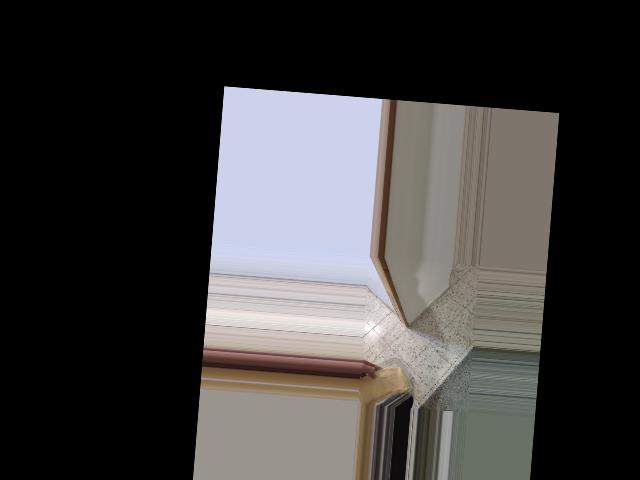cheese: (356, 356, 414, 409)
